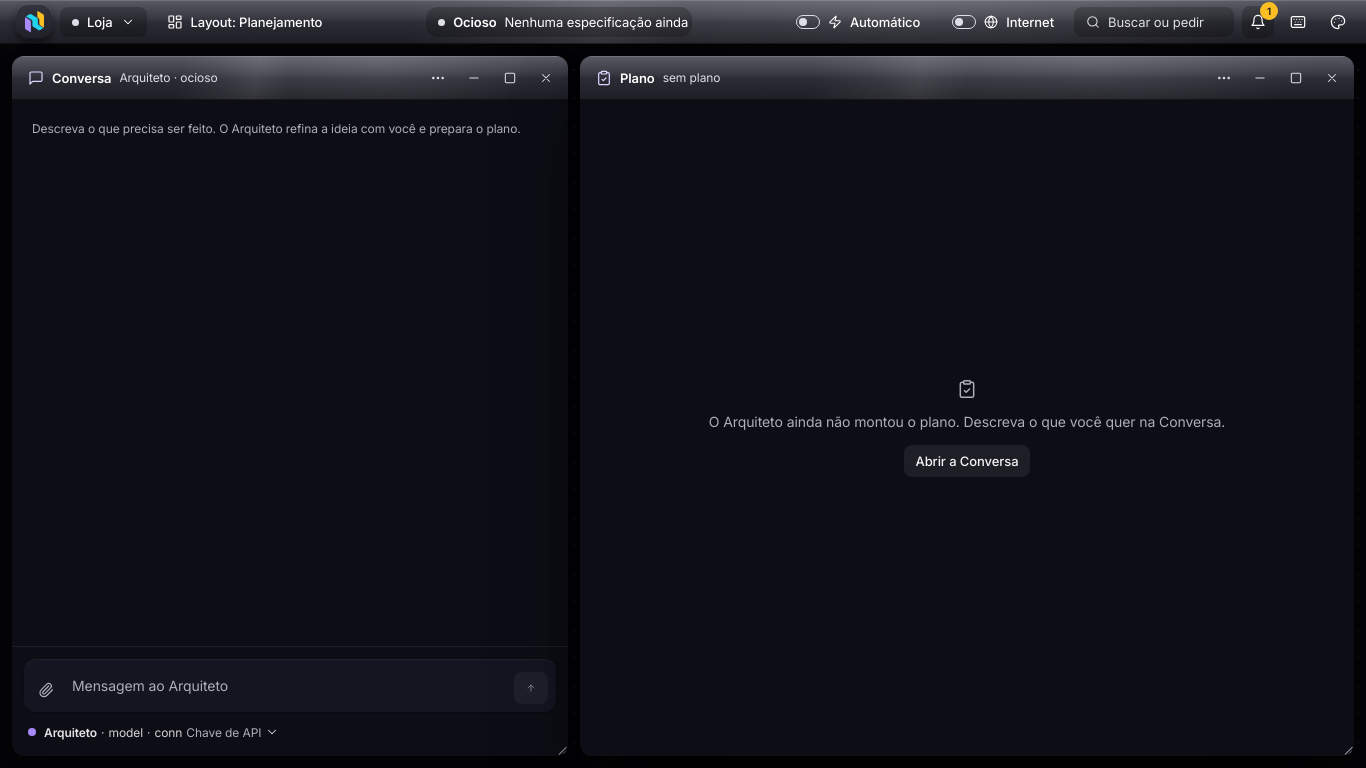
it: Shell: barra superior › seletor de espaços: projetos com estado e 'Novo projeto'; Esc fecha e devolve o foco
Click the button with aria-label "Trocar de projeto" at (103, 22), box [60,7,146,37]
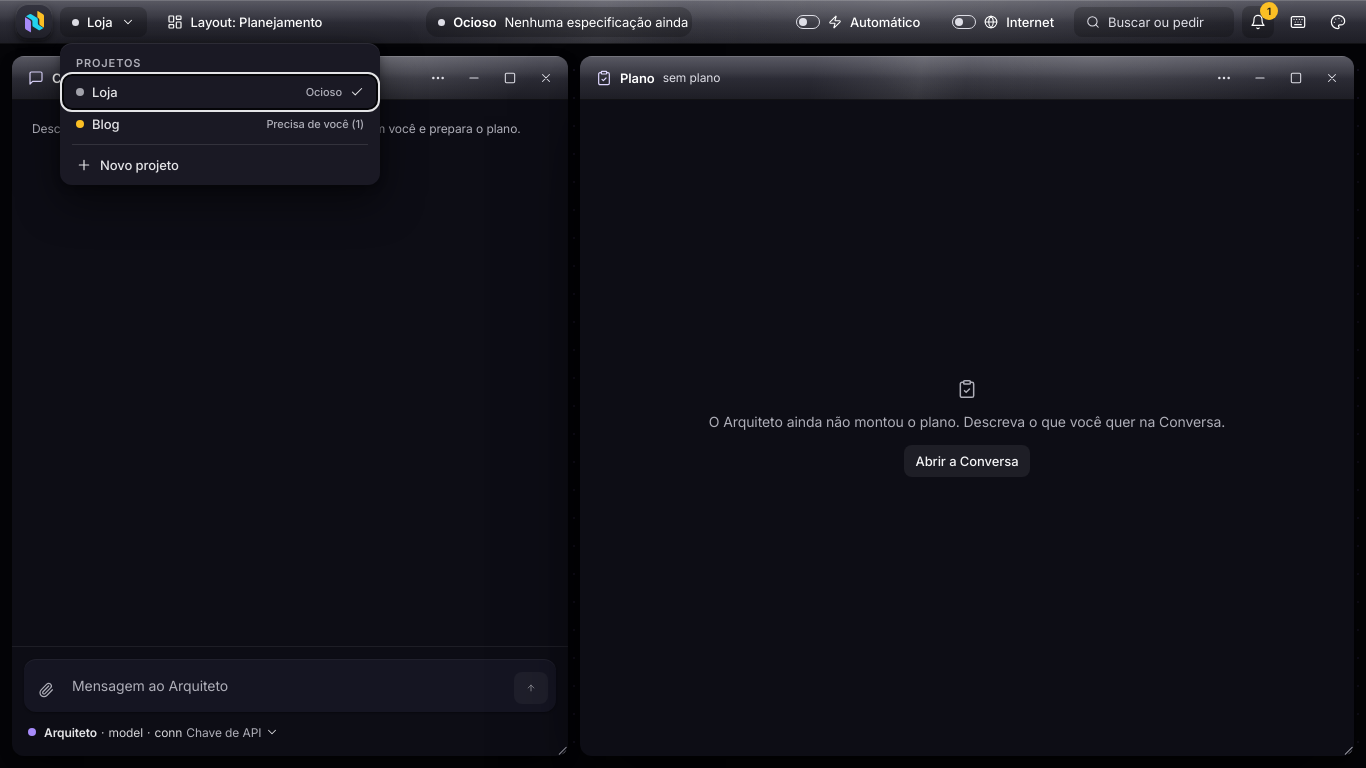
Check: the menu item "Blog Precisa de você (1)" is shown, box [64,108,376,140]
Check: the menu item "Novo projeto" is shown, box [64,149,376,181]
Press Escape in the menu "Projetos", box [60,43,380,185]
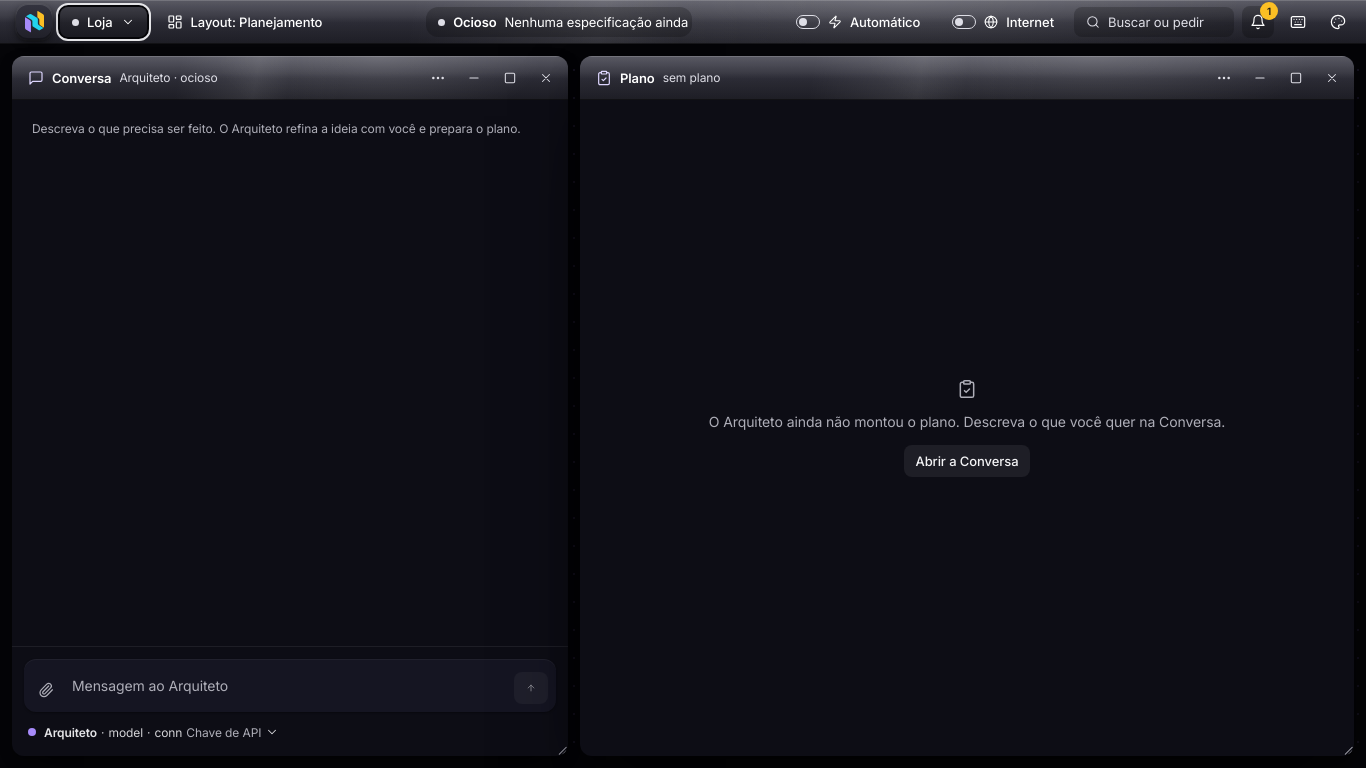
Check: the text "Projetos" is gone
Click the button with aria-label "Trocar de projeto" at (103, 22), box [60,7,146,37]
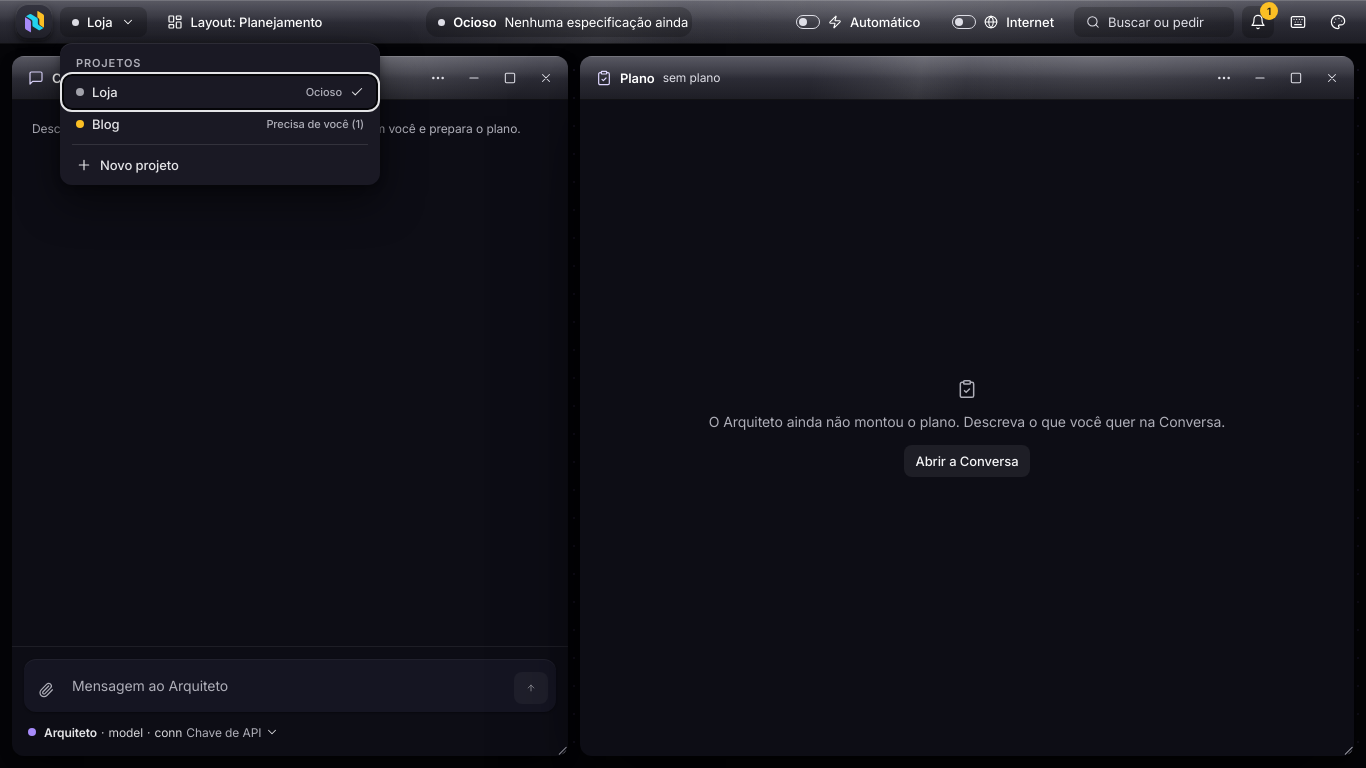
Click the menu item "Novo projeto" at (139, 165), box [64,149,376,181]
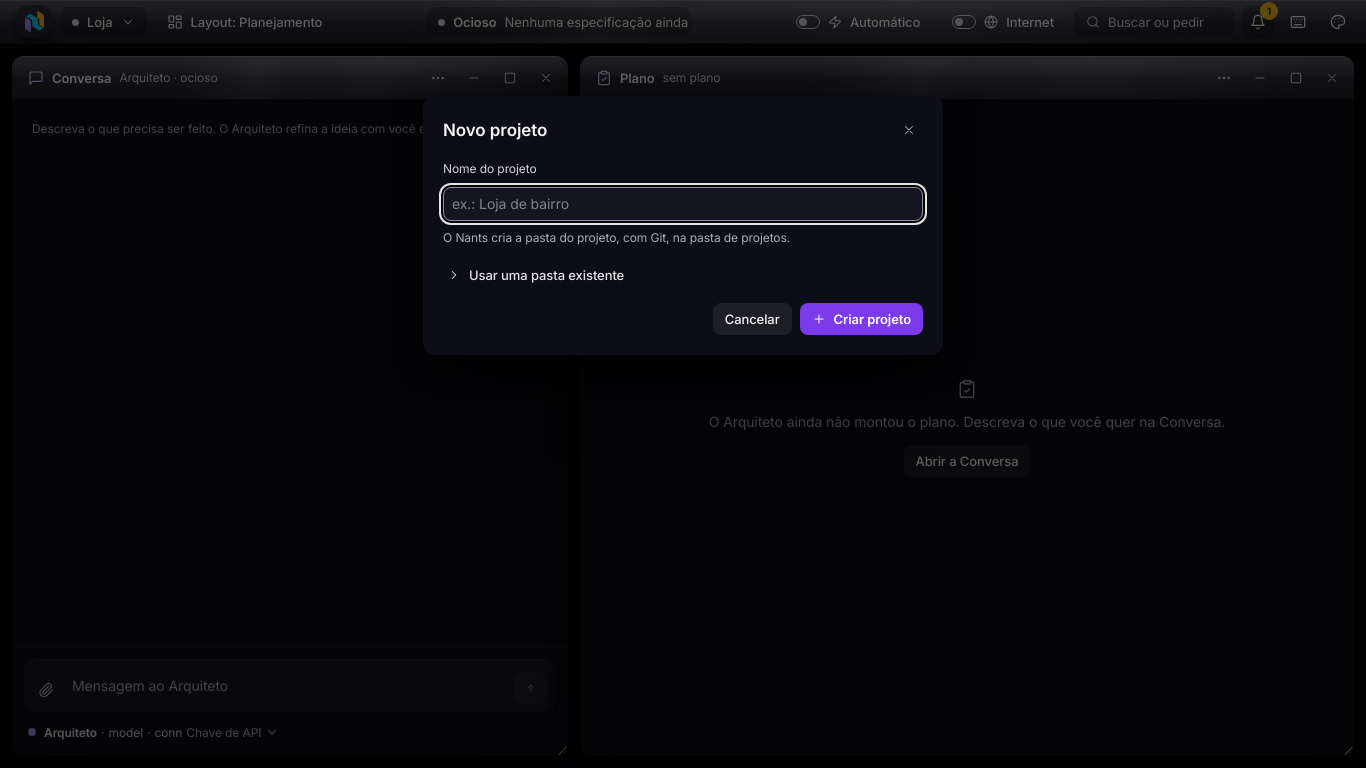
Check: the dialog "Novo projeto" is shown, box [423,96,943,355]
